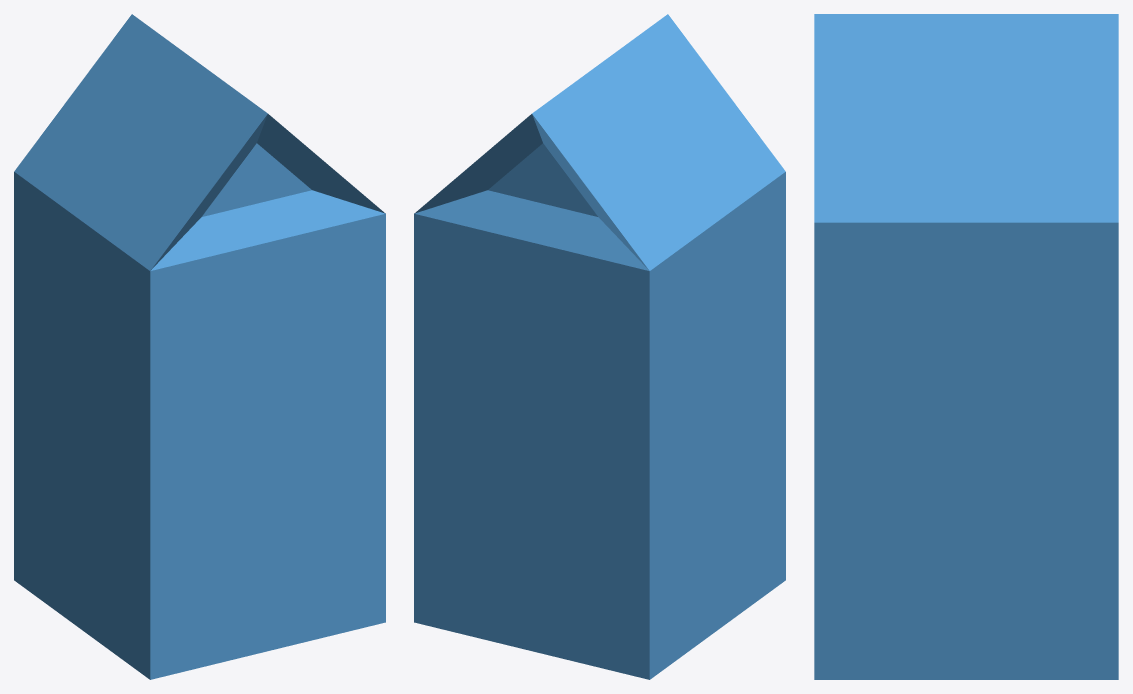
Rendered from MilkCarton.fbx.
3 renders of one model, left to right at view 1: azimuth 30°, elevation 25°; view 2: azimuth 150°, elevation 25°; view 3: azimuth 270°, elevation 25°, orthographic. The views are drawn at different scales.
Visible parts, largest first — view 1: Carton; view 2: Carton; view 3: Carton.
Boxes of the visible parts, <box> form: Carton: <box>14,14,385,679</box>; Carton: <box>414,14,785,679</box>; Carton: <box>814,14,1118,679</box>.
Size of the model in its own units: 10.84 by 23.63 by 10.84.
